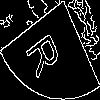R: (25, 25, 68, 81)
